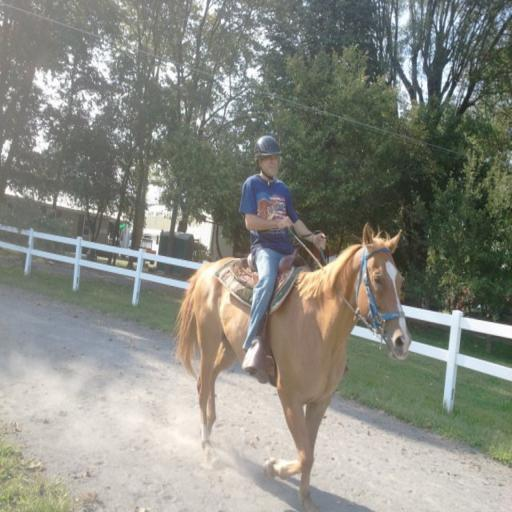horse: (172, 221, 413, 511)
